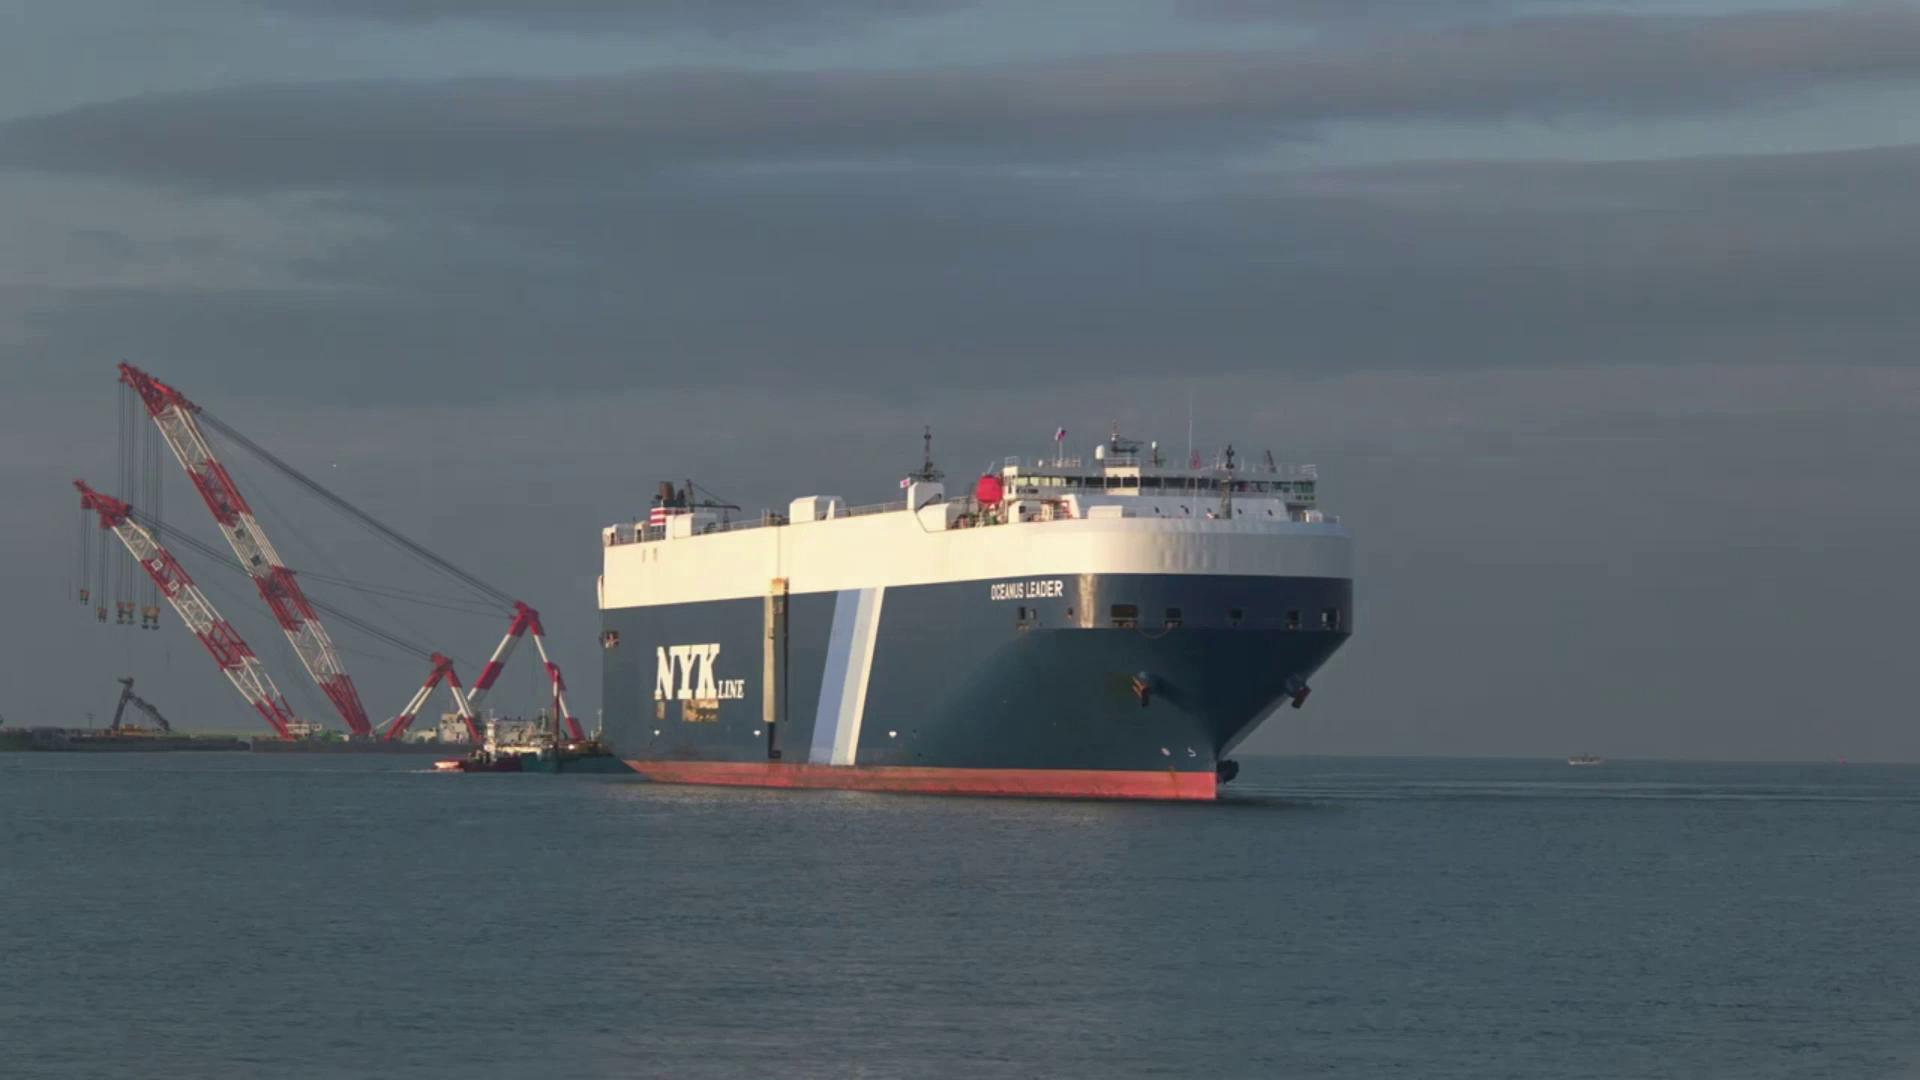OCR: (654, 640, 749, 709), (980, 578, 1069, 609)
